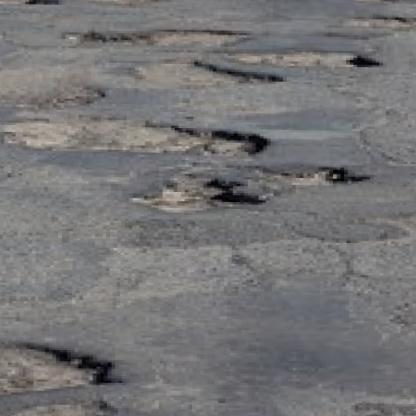pothole: (0, 115, 275, 157), (0, 339, 118, 403), (101, 55, 283, 93), (129, 171, 263, 214), (0, 56, 109, 108), (65, 23, 250, 51), (227, 46, 386, 69), (3, 395, 111, 416), (277, 166, 366, 191), (339, 14, 416, 33), (51, 0, 184, 4)
